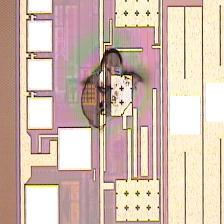PARTICLE: (81, 49, 144, 130)
